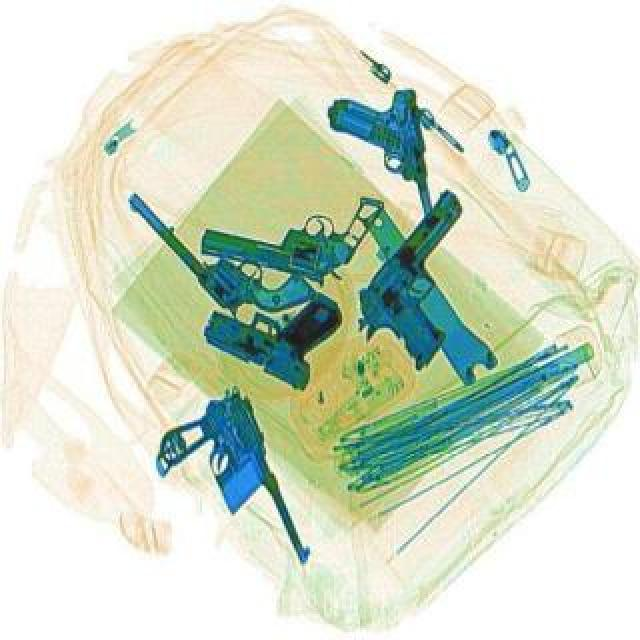gun: (122, 154, 318, 348), (138, 384, 312, 596), (334, 192, 526, 380), (194, 162, 386, 298), (194, 260, 350, 396), (322, 90, 438, 242)
